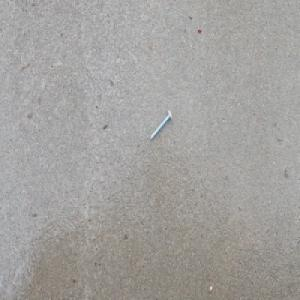Nail: (149, 109, 173, 142)
